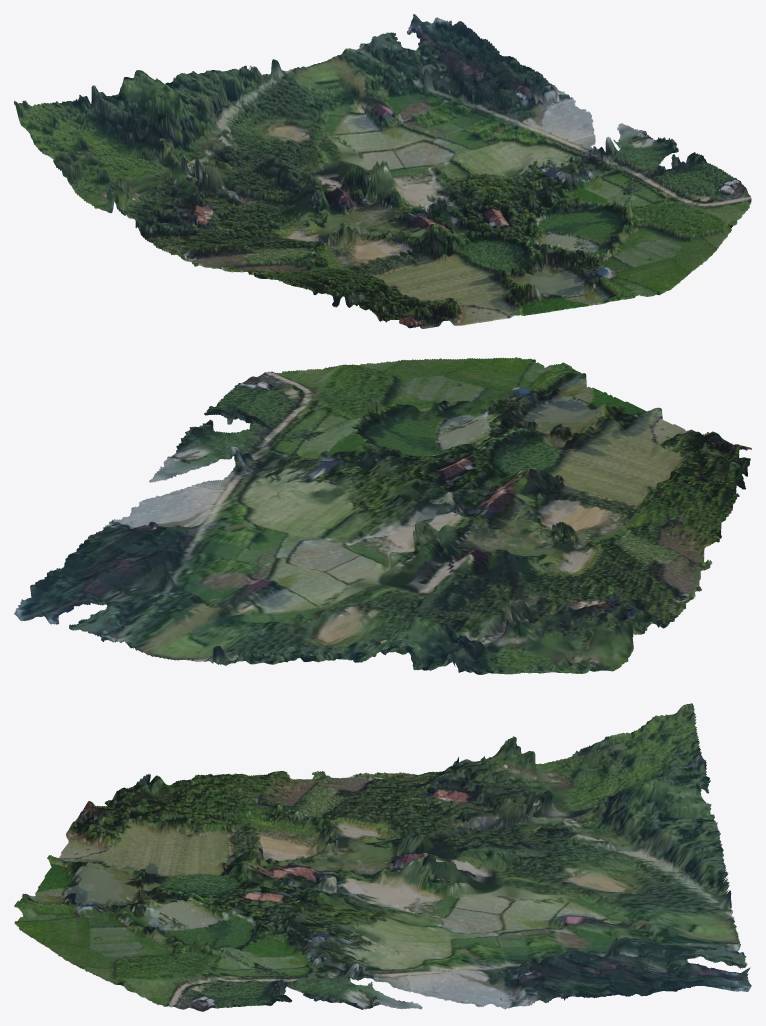
The model's file is v5_complete_2026-09-20_1811.glb.
The picture shows the model from 3 angles, top to bottom: view 1: azimuth 30°, elevation 25°; view 2: azimuth 150°, elevation 25°; view 3: azimuth 270°, elevation 25°; orthographic projection. The views are drawn at different scales.
Size of the model in its own units: 42.37 by 5.41 by 49.72.
